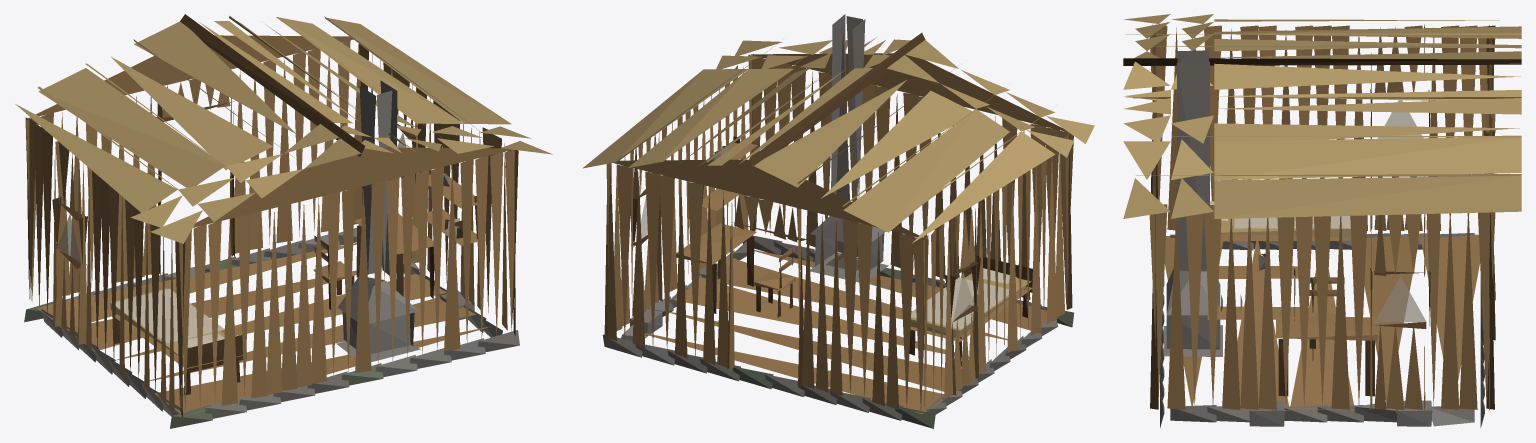
The model's file is SM_CASA_01_CHOZA_BAJA.glb.
The picture shows the model from 3 angles, left to right: view 1: azimuth 30°, elevation 25°; view 2: azimuth 150°, elevation 25°; view 3: azimuth 270°, elevation 25°; orthographic projection. The views are drawn at different scales.
Visible parts, largest first — view 1: SM_Pared_Norte, SM_Techo_Izq, SM_Pared_Oeste, SM_Pared_Sur, SM_Techo_Der, SM_Cimiento_Piedra, SM_Suelo, SM_Hogar, SM_Pared_Este, SM_Cama, SM_Cumbrera, SM_Mesa (+2 smaller); view 2: SM_Pared_Sur, SM_Techo_Izq, SM_Pared_Norte, SM_Pared_Oeste, SM_Techo_Der, SM_Suelo, SM_Cimiento_Piedra, SM_Pared_Este, SM_Hogar, SM_Cama, SM_Cumbrera, SM_Mesa (+2 smaller); view 3: SM_Techo_Der, SM_Pared_Este, SM_Suelo, SM_Pared_Oeste, SM_Techo_Izq, SM_Cimiento_Piedra, SM_Hogar, SM_Cumbrera, SM_Mesa, SM_Cama, SM_Pared_Sur, SM_Estanteria (+2 smaller).
Boxes of the visible parts, x1,y1,x2,y2 form: SM_Pared_Norte: (179,147,515,417); SM_Techo_Izq: (15,21,362,243); SM_Pared_Oeste: (25,117,185,411); SM_Pared_Sur: (26,35,365,301); SM_Techo_Der: (198,16,552,154); SM_Cimiento_Piedra: (24,227,519,428); SM_Suelo: (38,243,490,416); SM_Hogar: (336,80,420,362); SM_Pared_Este: (359,44,518,331); SM_Cama: (108,288,246,395); SM_Cumbrera: (180,14,365,156); SM_Mesa: (354,213,434,298); SM_Pared_Sur: (604,159,928,411); SM_Techo_Izq: (752,40,1094,243); SM_Pared_Norte: (748,53,1073,309); SM_Pared_Oeste: (923,132,1068,412); SM_Techo_Der: (582,36,910,168); SM_Suelo: (632,247,1046,414); SM_Cimiento_Piedra: (602,235,1074,428); SM_Pared_Este: (606,54,753,330); SM_Hogar: (810,14,888,282); SM_Cama: (909,255,1032,366); SM_Cumbrera: (749,33,925,168); SM_Mesa: (676,223,756,313); SM_Techo_Der: (1123,61,1521,218); SM_Pared_Este: (1149,204,1495,410); SM_Suelo: (1164,234,1479,410); SM_Pared_Oeste: (1149,24,1495,231); SM_Techo_Izq: (1123,14,1521,63); SM_Cimiento_Piedra: (1160,233,1484,427); SM_Hogar: (1163,50,1222,356); SM_Cumbrera: (1123,58,1521,65); SM_Mesa: (1276,317,1377,396); SM_Cama: (1210,201,1351,241); SM_Pared_Sur: (1483,25,1495,410); SM_Estanteria: (1207,253,1300,320).
Bounding box in the file's own units: 5.6 × 3.88 × 4.6.
